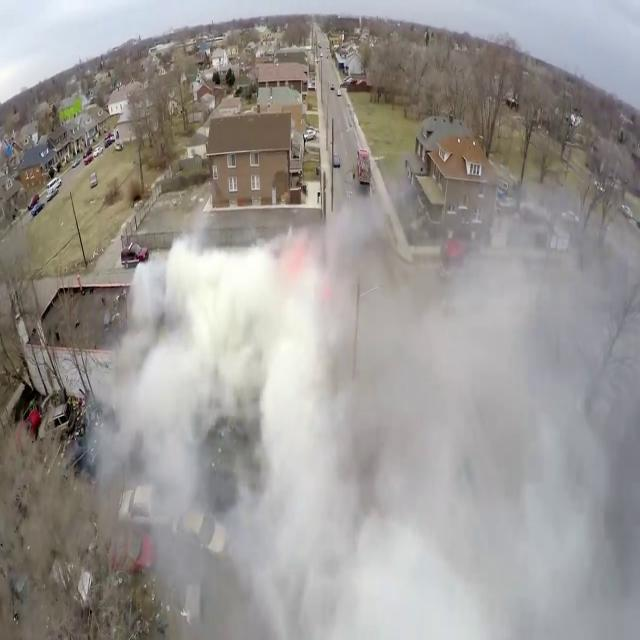Smoke: (91, 179, 639, 639)
